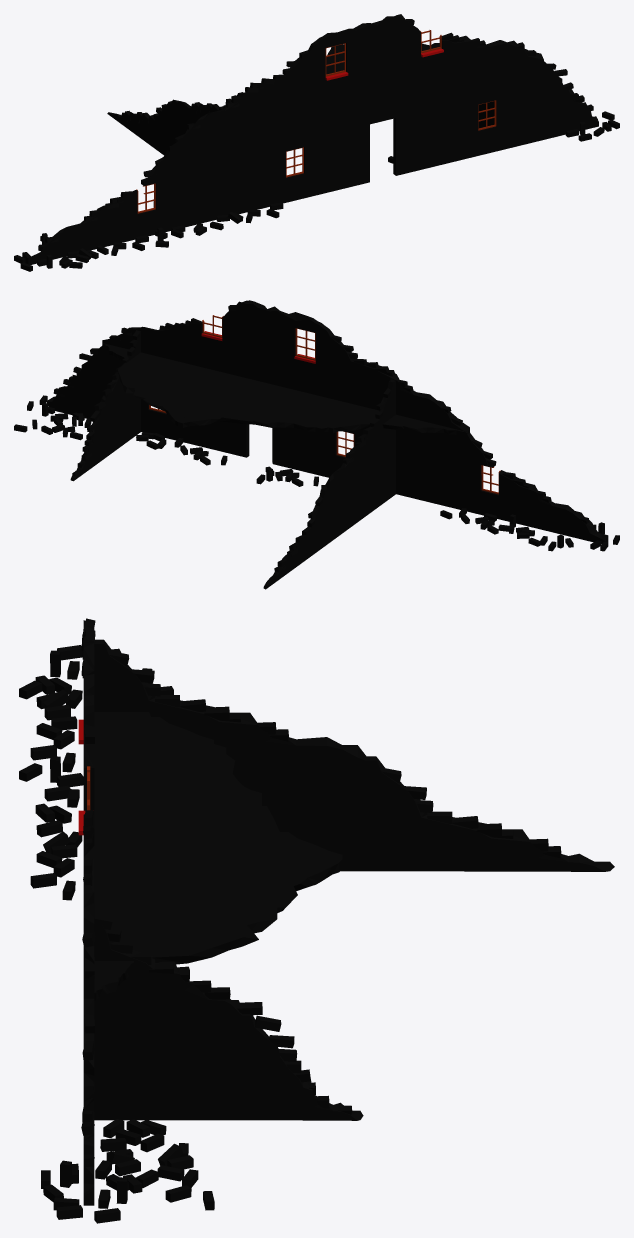
File: Ruine01_01.fbx
The picture shows the model from 3 angles, top to bottom: view 1: azimuth 30°, elevation 25°; view 2: azimuth 150°, elevation 25°; view 3: azimuth 270°, elevation 25°; orthographic projection. The views are drawn at different scales.
Visible parts, largest first — view 1: Ruine01_01; view 2: Ruine01_01; view 3: Ruine01_01.
Boxes of the visible parts, bbox=[...] form: Ruine01_01: bbox=[14, 14, 619, 271]; Ruine01_01: bbox=[14, 300, 619, 589]; Ruine01_01: bbox=[19, 618, 614, 1223].
Size of the model in its own units: 2194 by 561 by 969.
